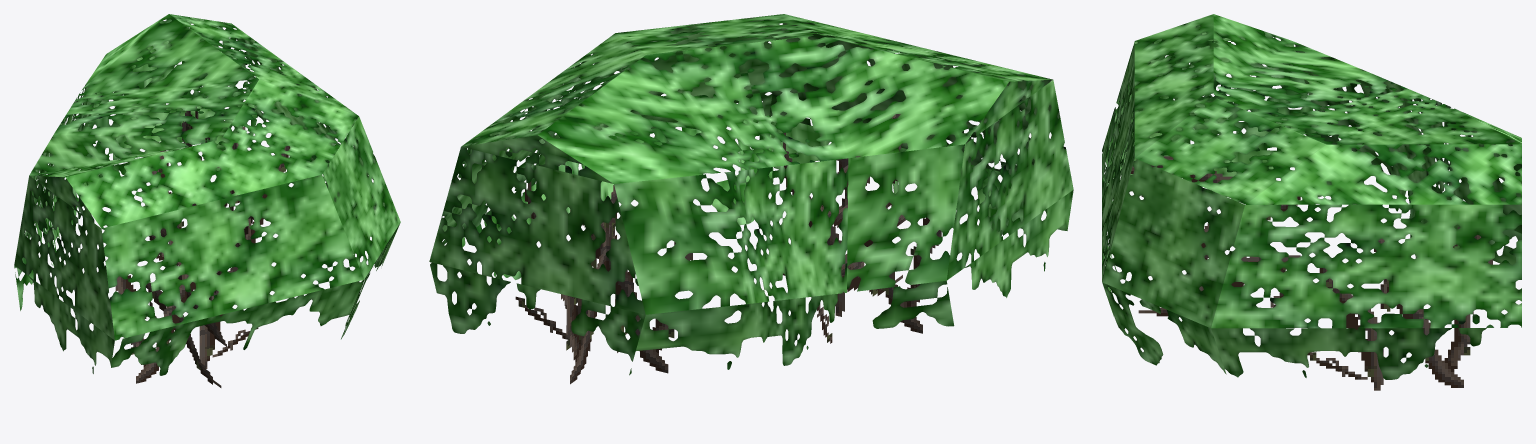
The model's file is bush_round_corner_filled_root_spring.fbx.
The picture shows the model from 3 angles, left to right: view 1: azimuth 30°, elevation 25°; view 2: azimuth 150°, elevation 25°; view 3: azimuth 270°, elevation 25°; orthographic projection. The views are drawn at different scales.
Visible parts, largest first — view 1: bush_round_corner_filled_root_spring; view 2: bush_round_corner_filled_root_spring; view 3: bush_round_corner_filled_root_spring.
Part boxes in pixels (x1,y1,x2,y2): bush_round_corner_filled_root_spring: [14, 14, 400, 387]; bush_round_corner_filled_root_spring: [429, 14, 1073, 384]; bush_round_corner_filled_root_spring: [1102, 14, 1521, 390].
Bounding box in the file's own units: 136 × 87.65 × 135.
Materials: 2 (2 with a texture image).
